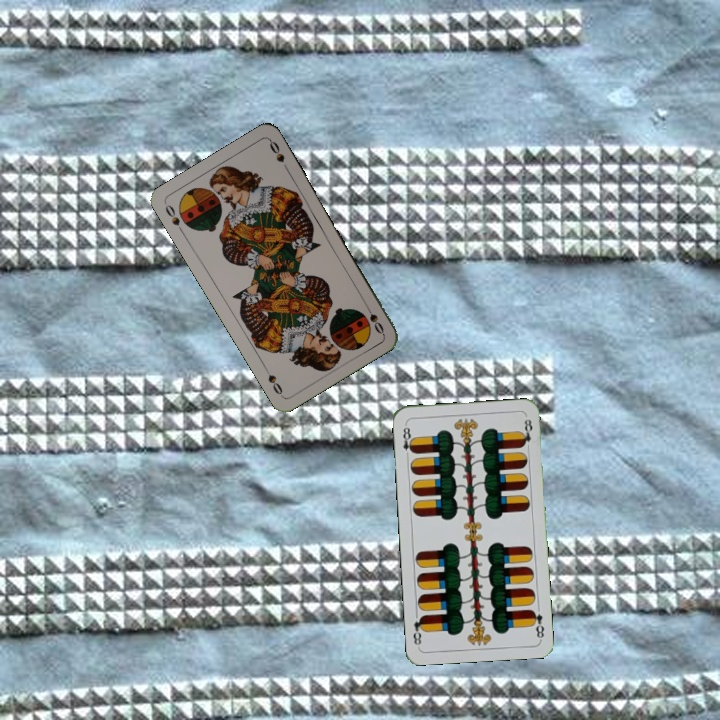E8: (399, 420, 417, 461), (527, 606, 547, 642)
SO: (361, 299, 387, 337), (161, 200, 187, 237)
